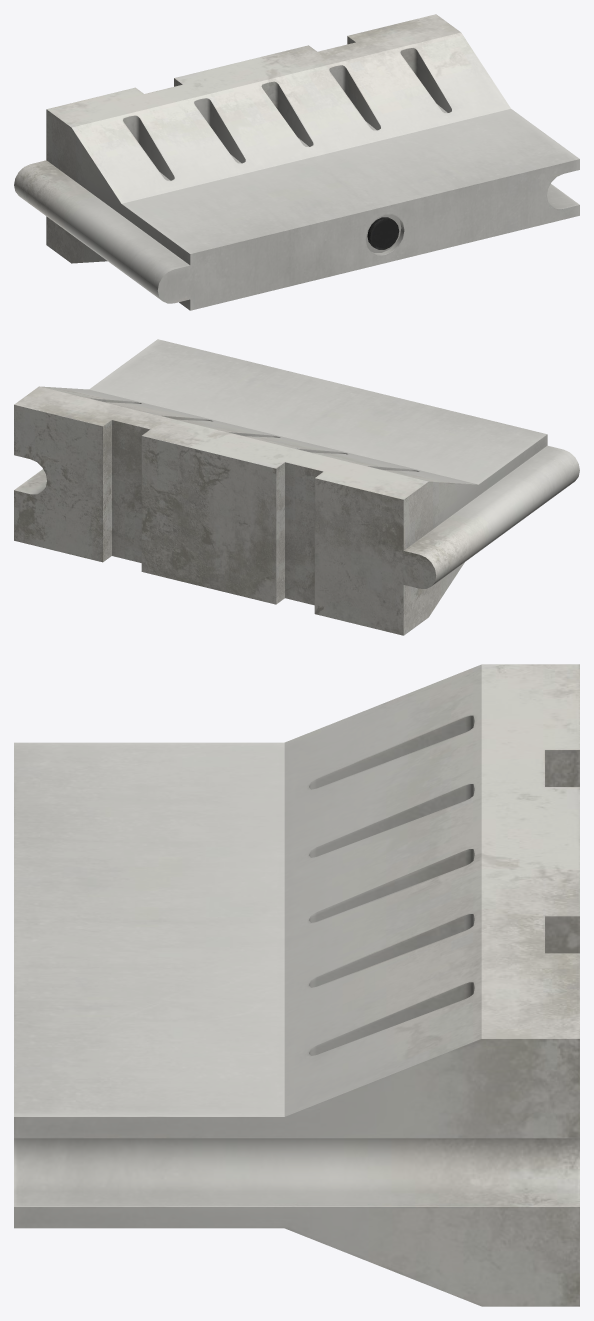
Rendered from white.gltf.
3 views of the same model, one above another, from view 1: azimuth 30°, elevation 25°; view 2: azimuth 150°, elevation 25°; view 3: azimuth 270°, elevation 25° (orthographic). The views are drawn at different scales.
Parts seen in each view (by area): view 1: white; view 2: white; view 3: white.
Boxes of the visible parts, x1,y1,x2,y2 form: white: (14,14,579,310); white: (14,339,579,635); white: (14,664,579,1306).
Size of the model in its own units: 1.98 by 0.6096 by 1.17.
1 material, 1 textured.
